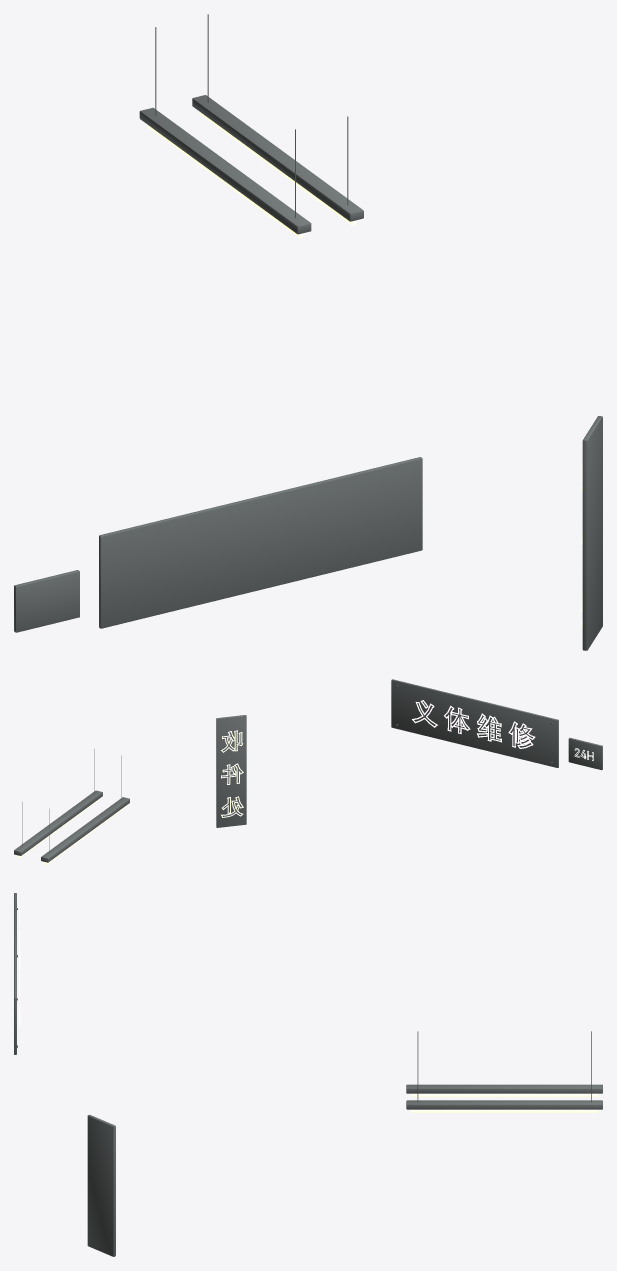
File: CyberRoomKit.fbx
3 renders of one model, top to bottom at view 1: azimuth 30°, elevation 25°; view 2: azimuth 150°, elevation 25°; view 3: azimuth 270°, elevation 25°, orthographic. The views are drawn at different scales.
Visible parts, largest first — view 1: CY_SignPlate_Main, CY_CounterHousing, CY_SignPlate_Receive, CY_SignPlate_24H, CY_CounterTubes; view 2: CY_SignPlate_Main, CY_SignPlate_Receive, CY_CounterHousing, CY_SignPlate_24H, CY_Sign_Main_2, CY_Sign_Main_3, CY_Sign_Main_1, CY_CounterTubes, CY_Sign_Receive_0; view 3: CY_CounterHousing, CY_SignPlate_Receive, CY_CounterTubes.
Boxes of the visible parts, x1,y1,x2,y2 form: CY_SignPlate_Main: (99,457,422,628); CY_CounterHousing: (139,14,363,234); CY_SignPlate_Receive: (582,416,602,650); CY_SignPlate_24H: (14,570,79,632); CY_CounterTubes: (147,111,356,238); CY_SignPlate_Main: (391,679,558,767); CY_SignPlate_Receive: (216,715,246,827); CY_CounterHousing: (14,749,129,862); CY_SignPlate_24H: (568,738,602,770); CY_Sign_Main_2: (477,713,501,742); CY_Sign_Main_3: (508,721,535,748); CY_Sign_Main_1: (444,705,470,734); CY_CounterTubes: (17,799,126,864); CY_Sign_Receive_0: (221,730,242,752); CY_CounterHousing: (406,1031,602,1109); CY_SignPlate_Receive: (87,1114,115,1256); CY_CounterTubes: (410,1093,598,1112).
Bounding box in the file's own units: 3.31 × 1.58 × 4.08.
